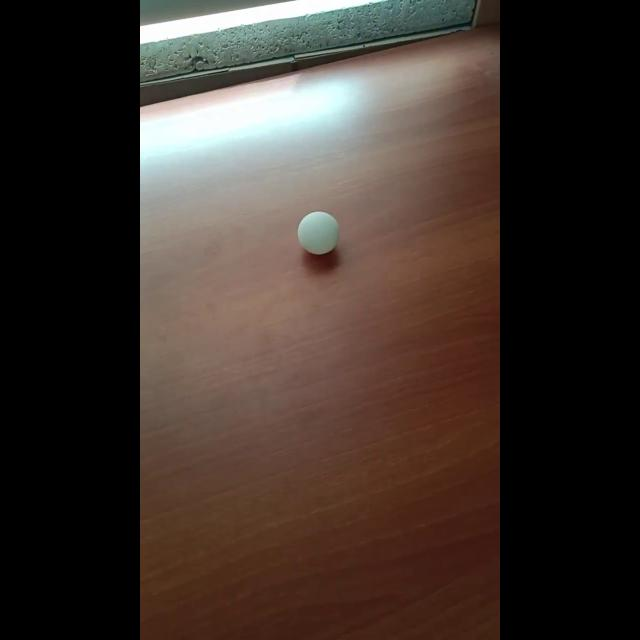white ball: (297, 211, 339, 255)
